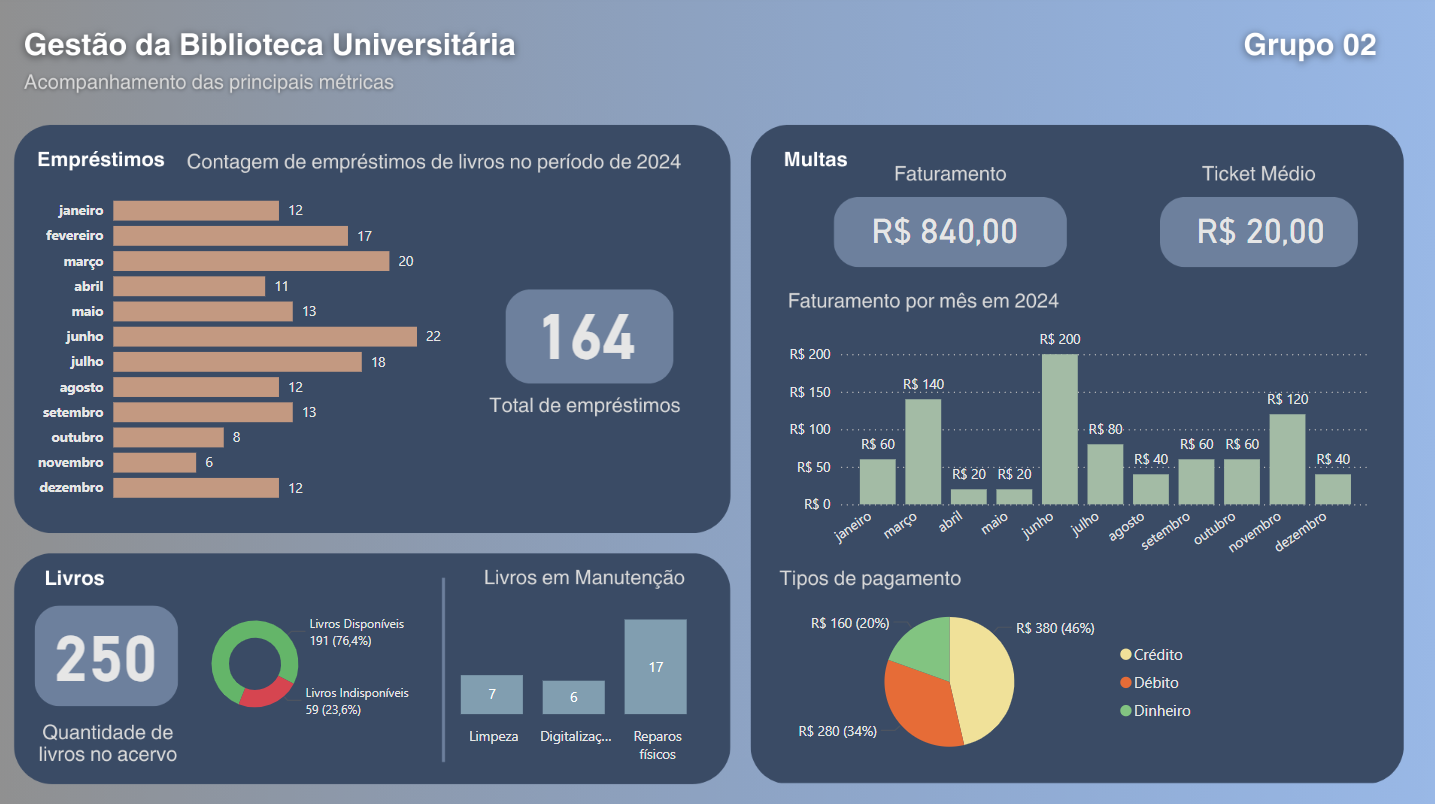

What the dashboard file says about the page in this screenshot:
{"tool":"powerbi","page":{"name":"Página 1","canvas":[1280,720],"ordinal":0},"visuals":[{"type":"card","fields":{"Values":["Sum(implementacao_dados multa.valor)"]},"box":[739.4,173.6,205.1,65.7],"z":0},{"type":"card","fields":{"Values":["Avg(implementacao_dados multa.valor)"]},"box":[1051.5,159.2,141.2,93.5],"z":1000},{"type":"clusteredColumnChart","title":"Faturamento por Mês","fields":{"Category":["implementacao_dados multa.data_aplicacao.Variation.Hierarquia de datas.Mês"],"Y":["Sum(implementacao_dados multa.valor)"]},"box":[698.9,282.4,525.3,233.9],"z":2000},{"type":"pieChart","title":"Tipos de Pagamento","fields":{"Y":["Sum(implementacao_dados pagamento.valor_pagamento)"],"Category":["implementacao_dados pagamento.metodo_pagamento"]},"box":[690.8,528.9,384.1,159.2],"z":3000},{"type":"barChart","title":"Contagem de Emprestimos por Mês","fields":{"Category":["implementacao_dados emprestimo.data_inicio_emprestimo.Variation.Hierarquia de datas.Mês"],"Y":["implementacao_dados emprestimo.ContagemEmprestimos"]},"box":[31.5,159.2,373.3,299.5],"z":6000},{"type":"card","fields":{"Values":["implementacao_dados emprestimo.ContagemEmprestimos"]},"box":[470.4,257.3,106.1,75.6],"z":8000},{"type":"donutChart","fields":{"Y":["implementacao_dados livro.LivrosDisponiveis","implementacao_dados livro.LivrosIndisponiveis"]},"box":[74.7,537.9,312.1,107.9],"z":9000},{"type":"card","fields":{"Values":["implementacao_dados livro.TotalLivros"]},"box":[40.5,544.2,114.2,72],"z":10000},{"type":"columnChart","title":"Livros em Manutanção","fields":{"Y":["implementacao_dados manutencaoacervo.Limpeza","implementacao_dados manutencaoacervo.Digitalizacao","implementacao_dados manutencaoacervo.ReparosFisicos"],"Category":["implementacao_dados manutencaoacervo.DescricaoCategoria"]},"box":[367.9,524.4,282.4,163.7],"z":13000}]}

Visuals, with their boxes in screenshot pixels (x1, y1, x2, y2), scaled from the page's 1280x720 canvas onto the 1435x804 screenshot:
card - Sum(implementacao_dados multa.valor): x1=829, y1=194, x2=1059, y2=267
card - Avg(implementacao_dados multa.valor): x1=1179, y1=178, x2=1337, y2=282
"Faturamento por Mês" clusteredColumnChart: x1=784, y1=315, x2=1372, y2=577
"Tipos de Pagamento" pieChart: x1=774, y1=591, x2=1205, y2=768
"Contagem de Emprestimos por Mês" barChart: x1=35, y1=178, x2=454, y2=512
card - implementacao_dados emprestimo.ContagemEmprestimos: x1=527, y1=287, x2=646, y2=372
donutChart - implementacao_dados livro.LivrosDisponiveis x implementacao_dados livro.LivrosIndisponiveis: x1=84, y1=601, x2=434, y2=721
card - implementacao_dados livro.TotalLivros: x1=45, y1=608, x2=173, y2=688
"Livros em Manutanção" columnChart: x1=412, y1=586, x2=729, y2=768
